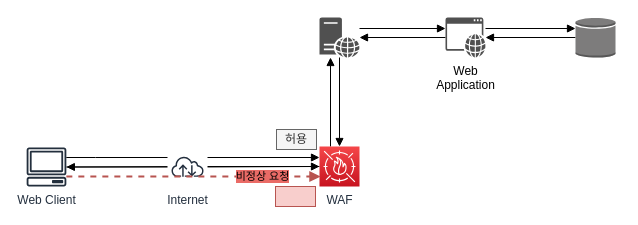
Some shapes in this 638 by 225 pixel diagram are drawn without their labels. The box of each missing label's shape, as (x1, y1, x2, y2) in pixels:
Database: (574, 16, 616, 58)
Web Server: (319, 17, 359, 57)
거부: (274, 186, 316, 206)
